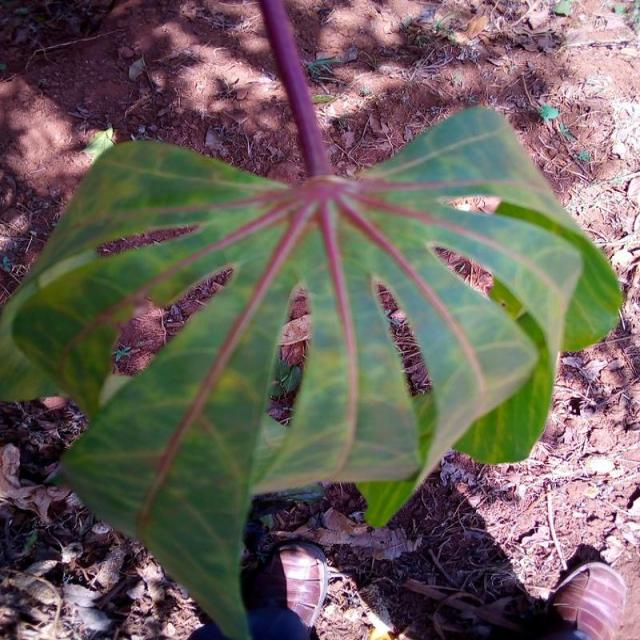cassava leaf: (1, 101, 624, 637)
